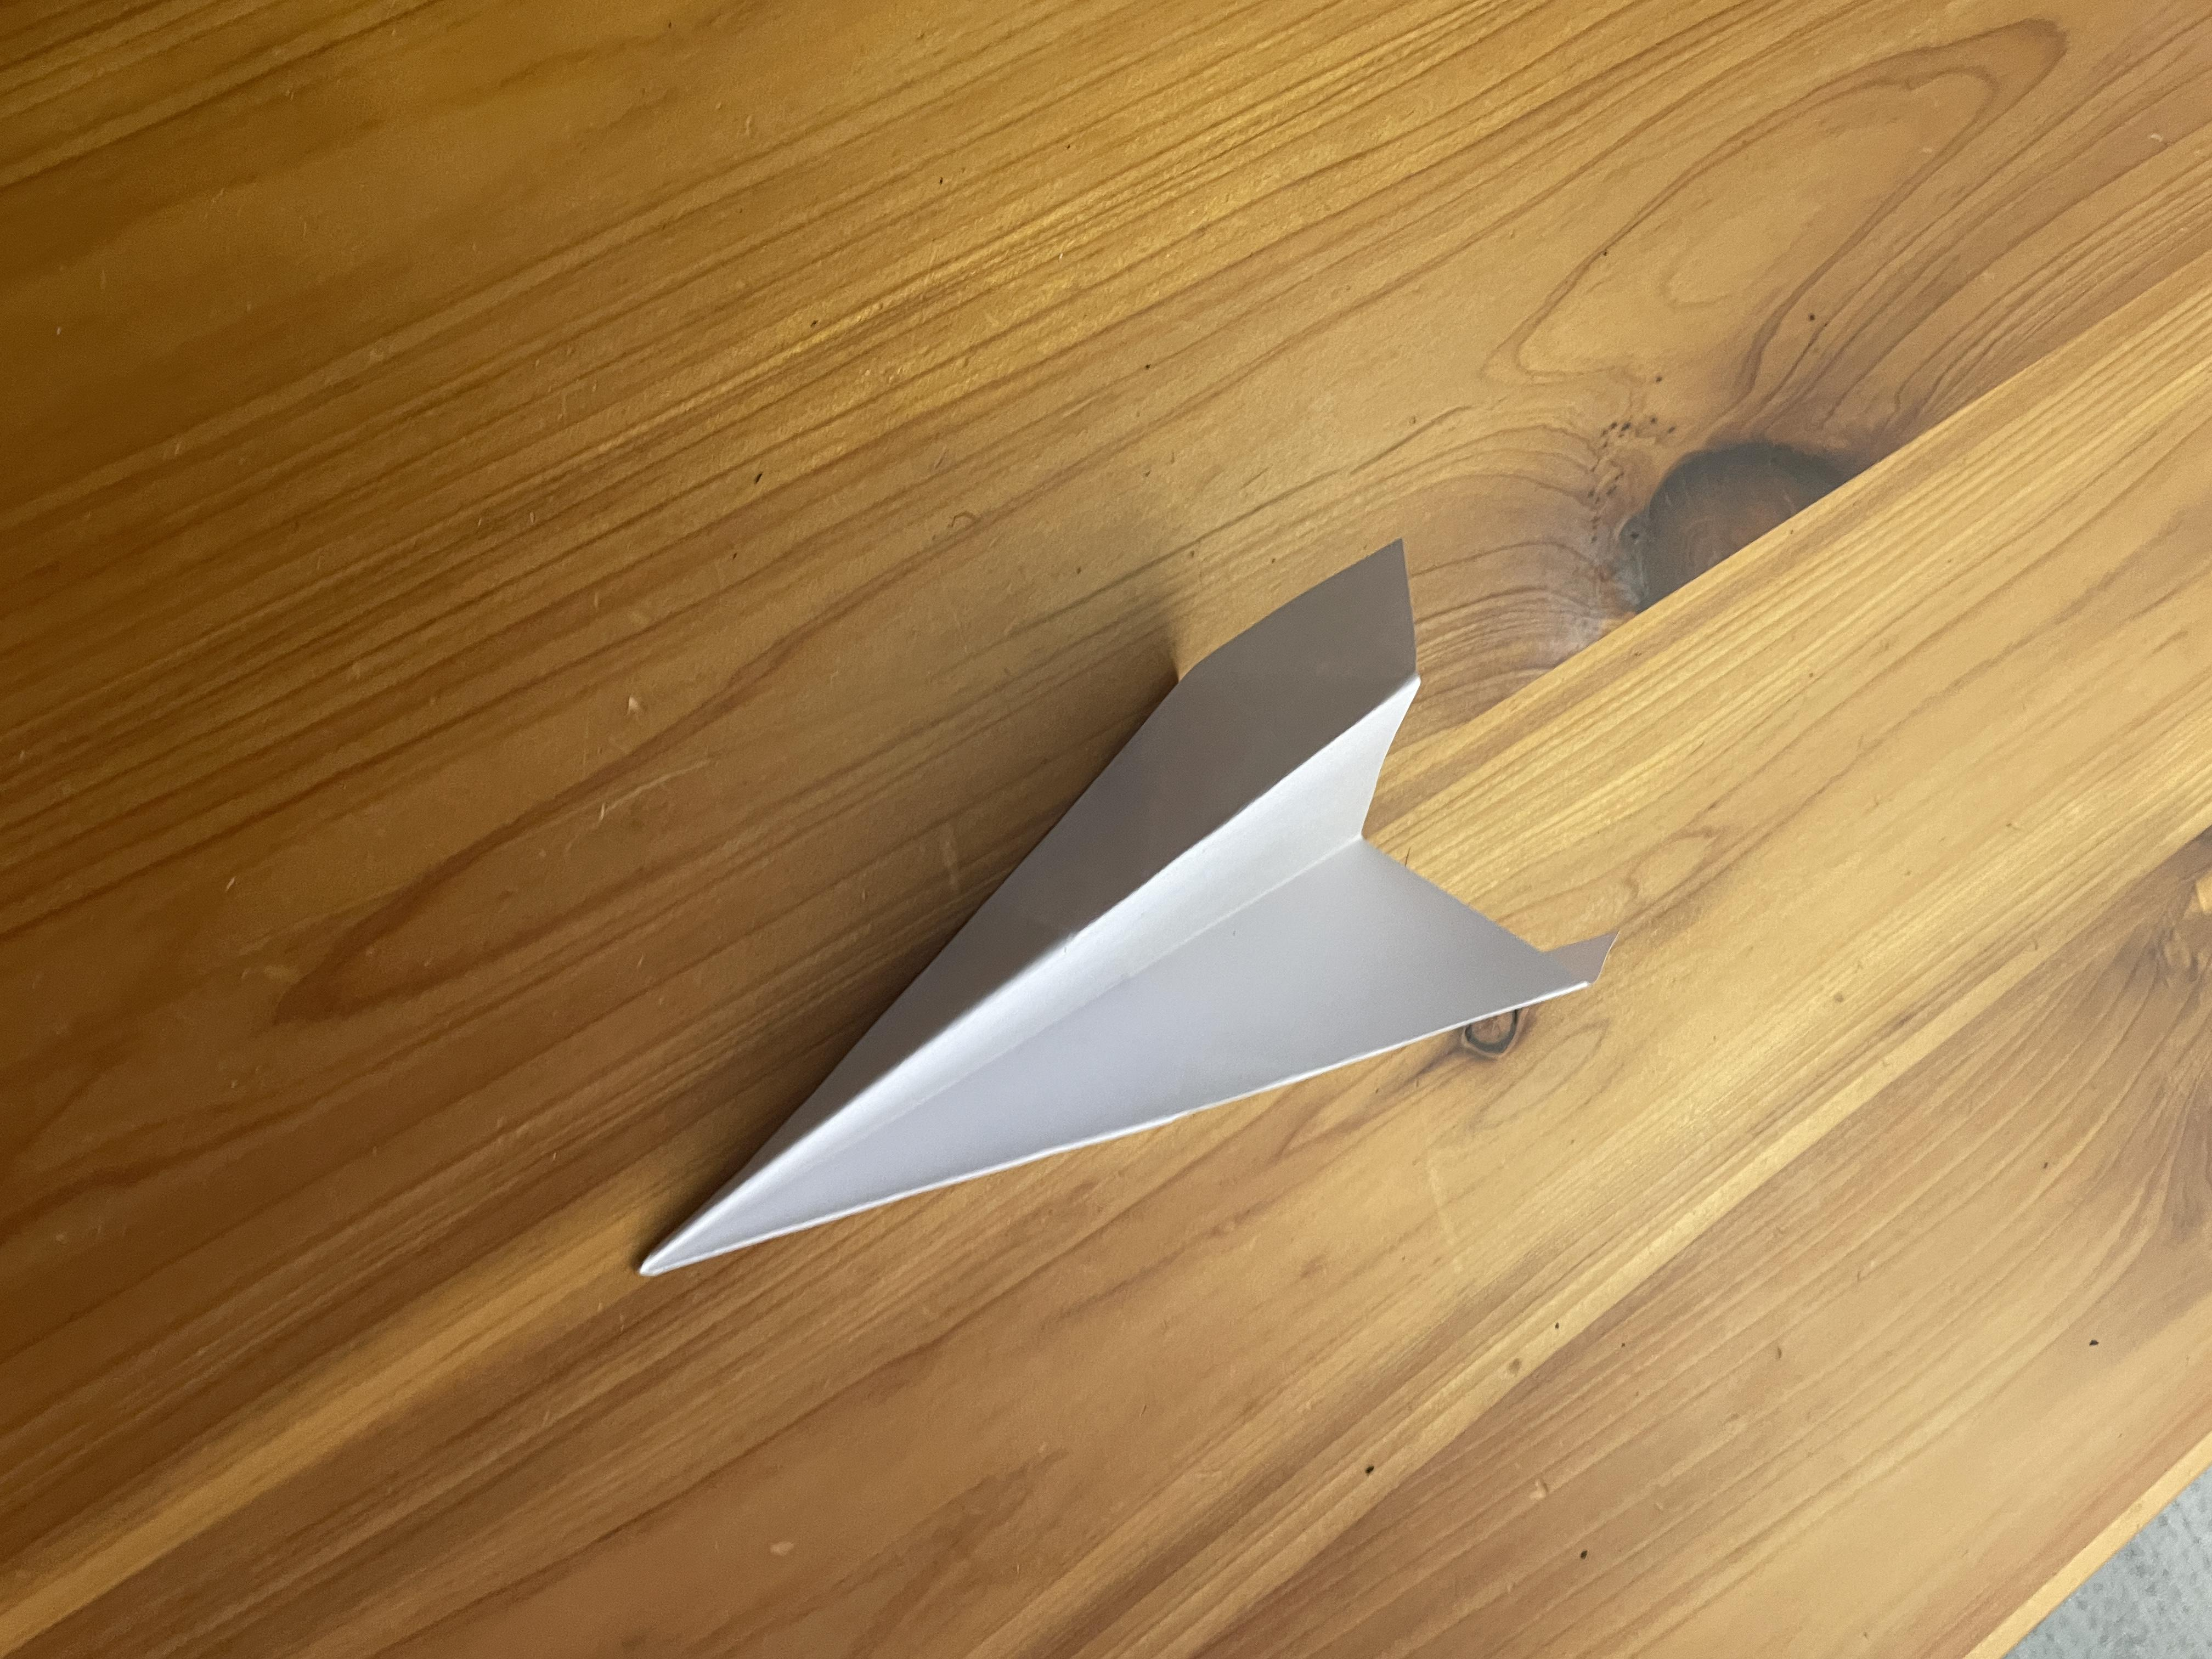shape_3: (564, 376, 1672, 1525)
